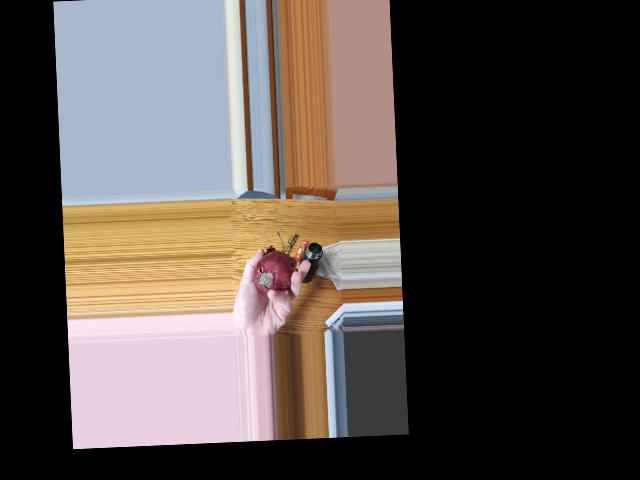onion: (249, 253, 293, 297)
